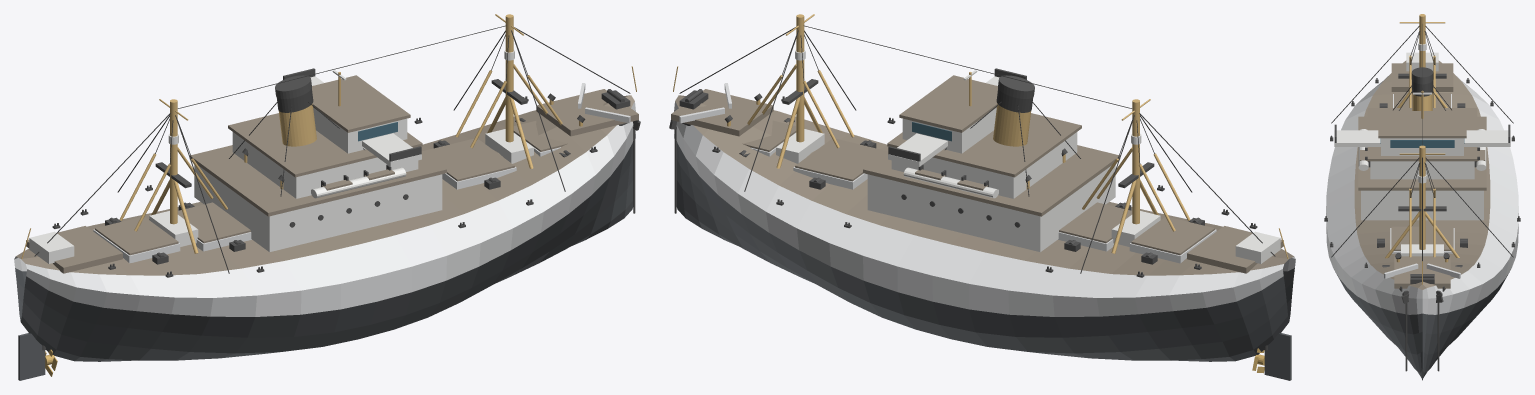
The model's file is Ship_SS_Kilinski_SongDoc_Final.fbx.
3 renders of one model, left to right at view 1: azimuth 30°, elevation 25°; view 2: azimuth 150°, elevation 25°; view 3: azimuth 270°, elevation 25°, orthographic. The views are drawn at different scales.
Visible parts, largest first — view 1: Hull_Kilinski_Main, Deckhouse_Tier1, Deckhouse_Tier1_Roof, Deckhouse_Tier2_Roof, Bridge_Monkey_Island, Deckhouse_Tier2_Officers, Forecastle_Deck_Raised, Hatch_2_Fwd_Cover, Poop_Deck_Raised, Hatch_4_Stern_Cover, Hatch_3_Aft_Cover, Wheelhouse_NavBridge (+13 smaller); view 2: Hull_Kilinski_Main, Deckhouse_Tier1, Deckhouse_Tier1_Roof, Deckhouse_Tier2_Roof, Bridge_Monkey_Island, Deckhouse_Tier2_Officers, Forecastle_Deck_Raised, Hatch_2_Fwd_Cover, Poop_Deck_Raised, Hatch_4_Stern_Cover, Hatch_3_Aft_Cover, Wheelhouse_NavBridge (+13 smaller); view 3: Hull_Kilinski_Main, Deckhouse_Tier1, Bridge_Monkey_Island, Deckhouse_Tier1_Roof, Deckhouse_Tier2_Officers, Deckhouse_Tier2_Roof, Forecastle_Deck_Raised, Hatch_2_Fwd_Cover, Poop_Deck_Raised, Wheelhouse_NavBridge, Bridge_Wing_Port, Bridge_Wing_Stbd (+18 smaller).
Part boxes in pixels (x1,y1,x2,y2): Hull_Kilinski_Main: [14, 95, 635, 361]; Deckhouse_Tier1: [194, 165, 442, 252]; Deckhouse_Tier1_Roof: [190, 145, 446, 216]; Deckhouse_Tier2_Roof: [228, 113, 422, 177]; Bridge_Monkey_Island: [312, 75, 410, 132]; Deckhouse_Tier2_Officers: [232, 132, 418, 198]; Forecastle_Deck_Raised: [536, 89, 638, 136]; Hatch_2_Fwd_Cover: [422, 138, 514, 181]; Poop_Deck_Raised: [26, 226, 122, 273]; Hatch_4_Stern_Cover: [95, 217, 178, 255]; Hatch_3_Aft_Cover: [177, 202, 250, 243]; Wheelhouse_NavBridge: [313, 108, 407, 153]; Hull_Kilinski_Main: [674, 95, 1295, 361]; Deckhouse_Tier1: [867, 165, 1115, 252]; Deckhouse_Tier1_Roof: [863, 145, 1119, 216]; Deckhouse_Tier2_Roof: [887, 113, 1081, 177]; Bridge_Monkey_Island: [899, 75, 997, 132]; Deckhouse_Tier2_Officers: [891, 132, 1077, 198]; Forecastle_Deck_Raised: [671, 89, 773, 136]; Hatch_2_Fwd_Cover: [795, 138, 887, 181]; Poop_Deck_Raised: [1187, 226, 1283, 273]; Hatch_4_Stern_Cover: [1131, 217, 1214, 255]; Hatch_3_Aft_Cover: [1059, 202, 1132, 243]; Wheelhouse_NavBridge: [902, 108, 996, 153]; Hull_Kilinski_Main: [1326, 60, 1518, 380]; Deckhouse_Tier1: [1361, 190, 1483, 220]; Bridge_Monkey_Island: [1378, 111, 1466, 138]; Deckhouse_Tier1_Roof: [1358, 116, 1486, 190]; Deckhouse_Tier2_Officers: [1370, 161, 1474, 179]; Deckhouse_Tier2_Roof: [1367, 108, 1477, 161]; Forecastle_Deck_Raised: [1394, 256, 1450, 288]; Hatch_2_Fwd_Cover: [1391, 226, 1453, 250]; Poop_Deck_Raised: [1391, 63, 1453, 91]; Wheelhouse_NavBridge: [1381, 138, 1463, 155]; Bridge_Wing_Port: [1464, 130, 1510, 146]; Bridge_Wing_Stbd: [1334, 130, 1380, 146].
Size of the model in its own units: 43591 by 17838 by 14650.
